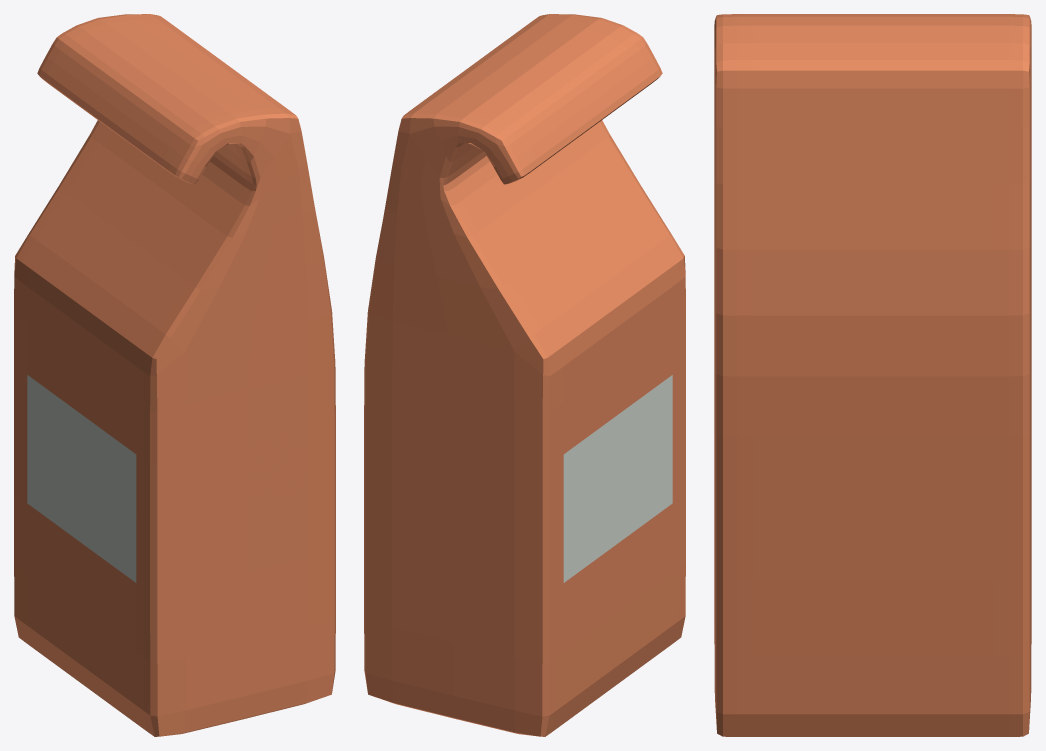
Rendered from CofeeBag.fbx.
The picture shows the model from 3 angles, left to right: view 1: azimuth 30°, elevation 25°; view 2: azimuth 150°, elevation 25°; view 3: azimuth 270°, elevation 25°; orthographic projection. The views are drawn at different scales.
Visible parts, largest first — view 1: CofeeBag; view 2: CofeeBag; view 3: CofeeBag.
Part boxes in pixels (bbox=[...]): CofeeBag: bbox=[14, 14, 335, 736]; CofeeBag: bbox=[364, 14, 685, 736]; CofeeBag: bbox=[714, 14, 1031, 736].
Bounding box in the file's own units: 44.01 × 136 × 58.91.
